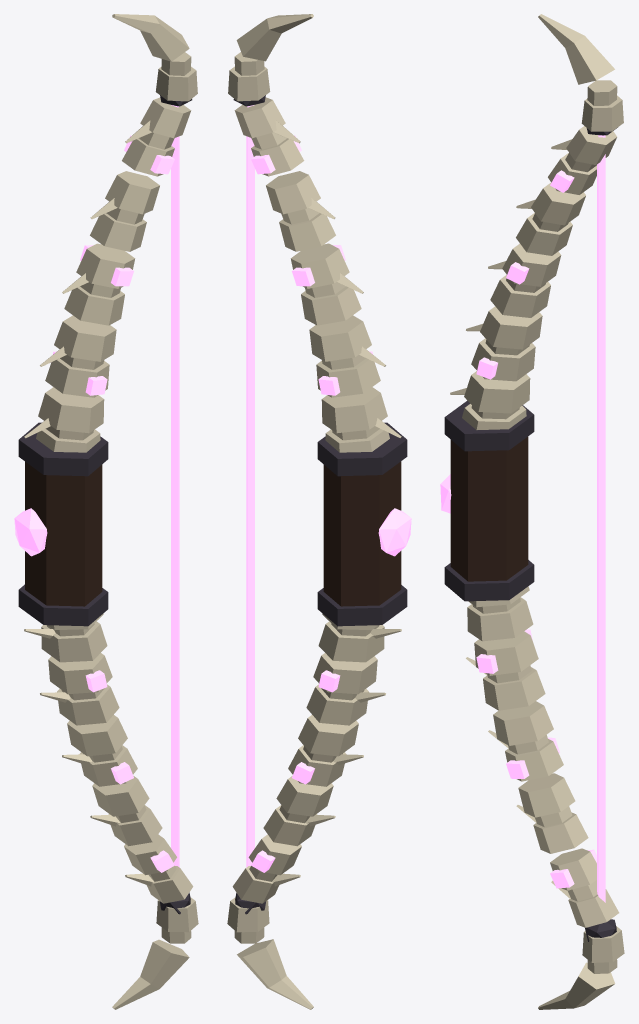
Rendered from Boss_Archer_Longbow.fbx.
3 renders of one model, left to right at view 1: azimuth 30°, elevation 25°; view 2: azimuth 150°, elevation 25°; view 3: azimuth 330°, elevation 25°, orthographic.
Visible parts, largest first — view 1: Boss_Archer_Longbow; view 2: Boss_Archer_Longbow; view 3: Boss_Archer_Longbow.
Boxes of the visible parts, x1=… form: Boss_Archer_Longbow: x1=14, y1=14, x2=198, y2=1009; Boss_Archer_Longbow: x1=227, y1=14, x2=411, y2=1009; Boss_Archer_Longbow: x1=440, y1=14, x2=624, y2=1009.
Size of the model in its own units: 0.3138 by 1.72 by 0.156.
